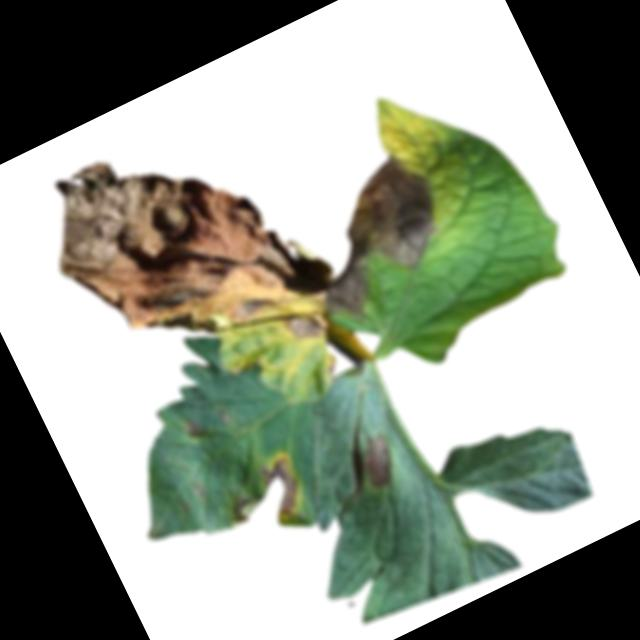Early_blight: (24, 103, 306, 386), (278, 144, 469, 325), (215, 448, 313, 539), (354, 431, 405, 489), (281, 305, 331, 351), (182, 416, 211, 446)
